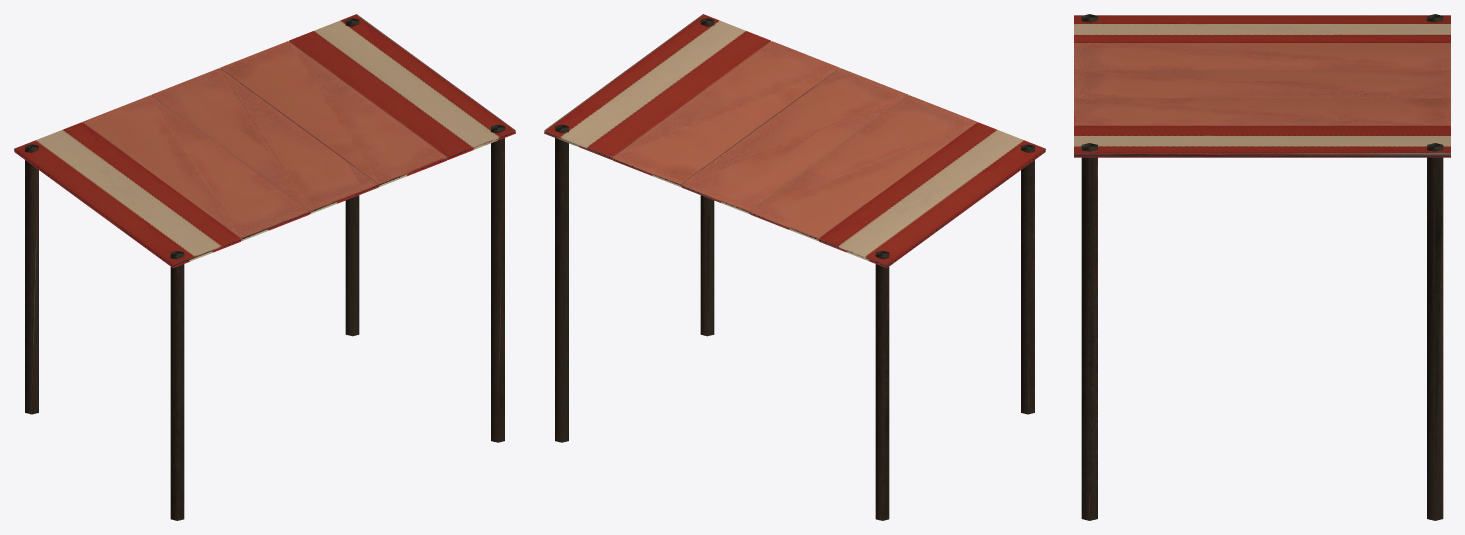
File: awning.glb
3 renders of one model, left to right at view 1: azimuth 30°, elevation 25°; view 2: azimuth 150°, elevation 25°; view 3: azimuth 270°, elevation 25°, orthographic. The views are drawn at different scales.
Visible parts, largest first — view 1: awning; view 2: awning; view 3: awning.
Part boxes in pixels (x1,y1,x2,y2): awning: (14,14,515,520); awning: (544,14,1045,520); awning: (1074,14,1450,520).
Bounding box in the file's own units: 3 × 2.6 × 2.4.
Materials: 1 (1 with a texture image).
